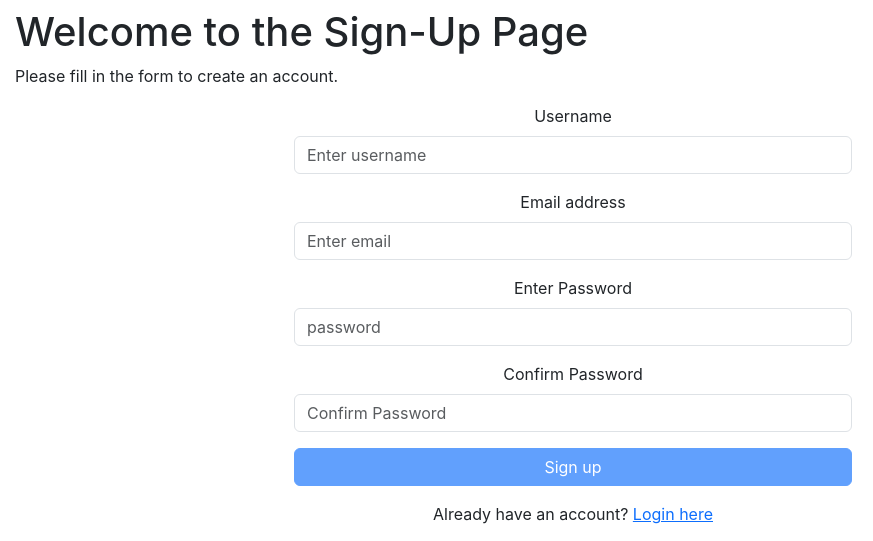
Test case: Password Complexity Validation › accepts a strong password
This screenshot has width=873, height=541.
Expected: the button "Sign up" is disabled, [294,448,852,486]
Type "test@example.com" into the field labelled "Email address" at (573, 241), box [294,222,852,260]
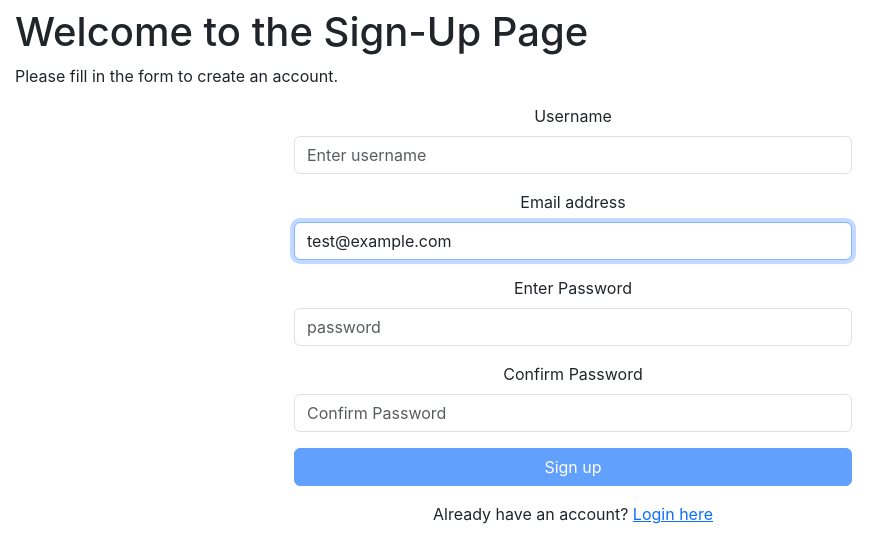
Type "testuser" into the field labelled "Username" at (573, 155), box [294,136,852,174]
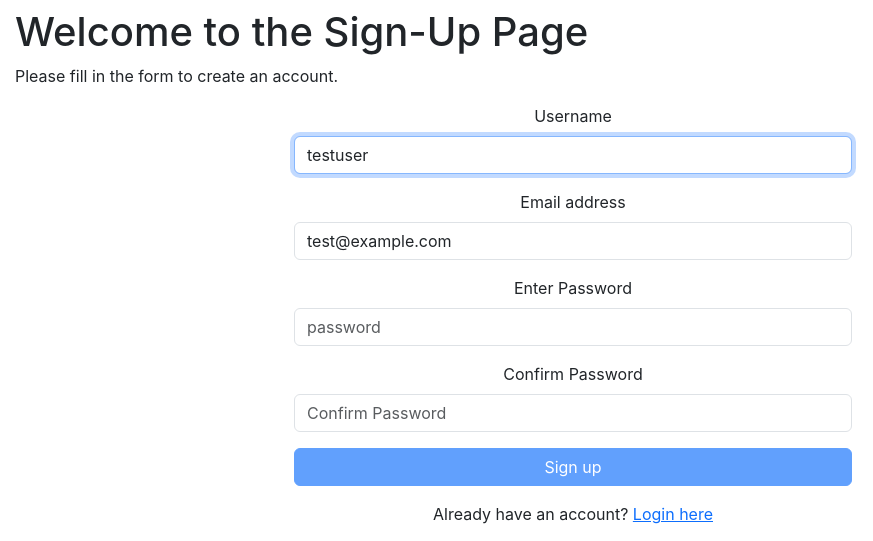
Expected: the button "Sign up" is disabled, [294,448,852,486]
# Enter a strong password
Type "Str0ngP@ssw0rd!" into the password field labelled "Enter Password" at (573, 327), box [294,308,852,346]
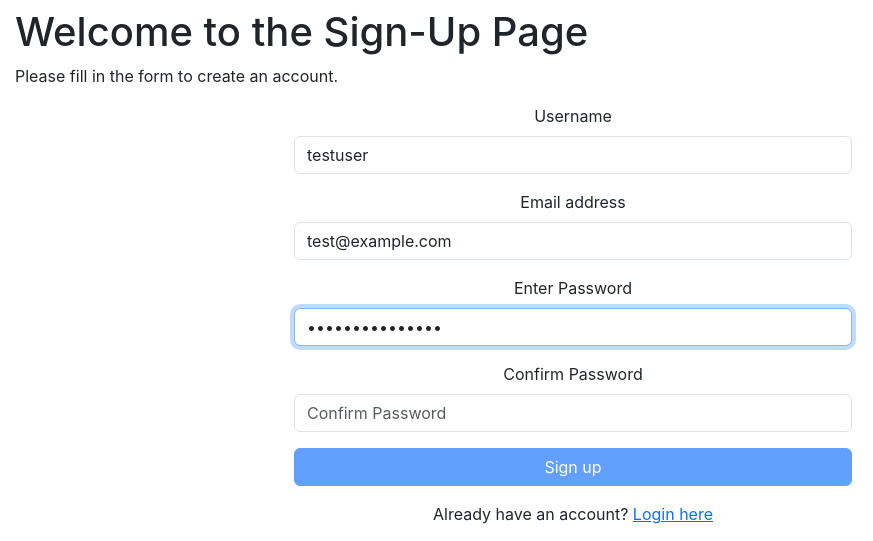
Type "Str0ngP@ssw0rd!" into the password field labelled "Confirm Password" at (573, 413), box [294,394,852,432]
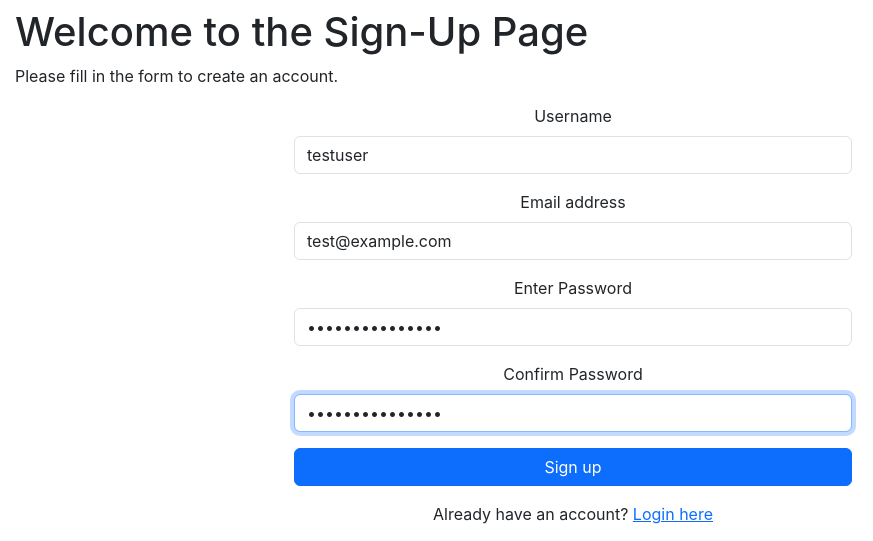
Expected: the button "Sign up" is enabled, [294,448,852,486]
